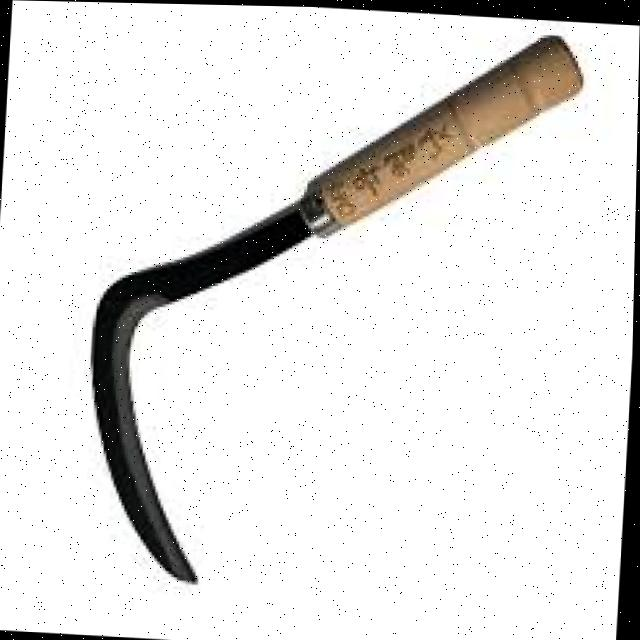sickle: (12, 46, 571, 613)
